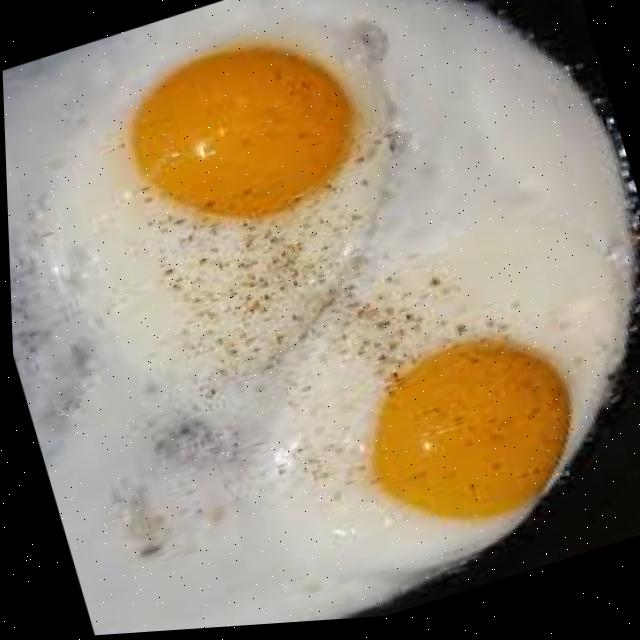Egg: (2, 0, 629, 636), (2, 0, 623, 636)
